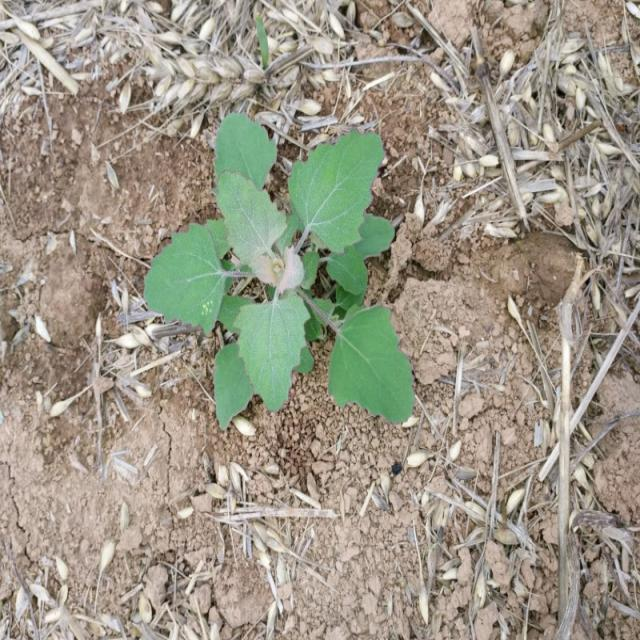ca: (147, 114, 416, 426)
